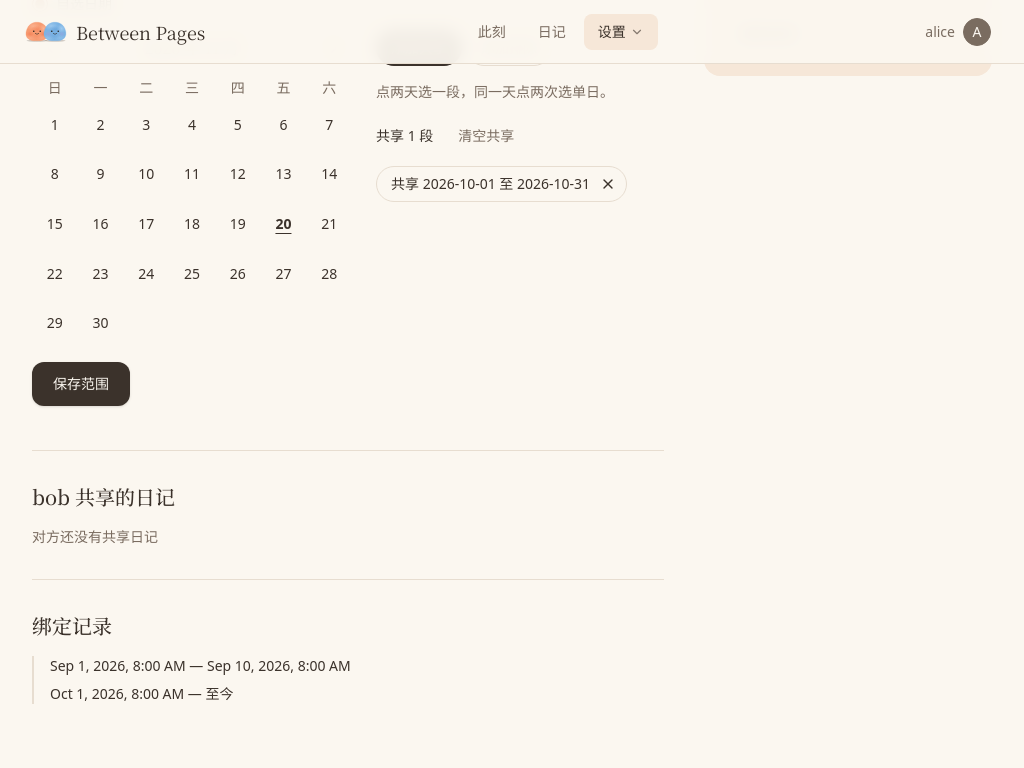
SpacePage › [adr:diary-collaboration-kernel#17] confirming for this binding for the first time opens every chosen date
(page scrolled)
Click the button "保存范围" at (81, 384), box left=32, top=362, right=130, bottom=406
(page scrolled)
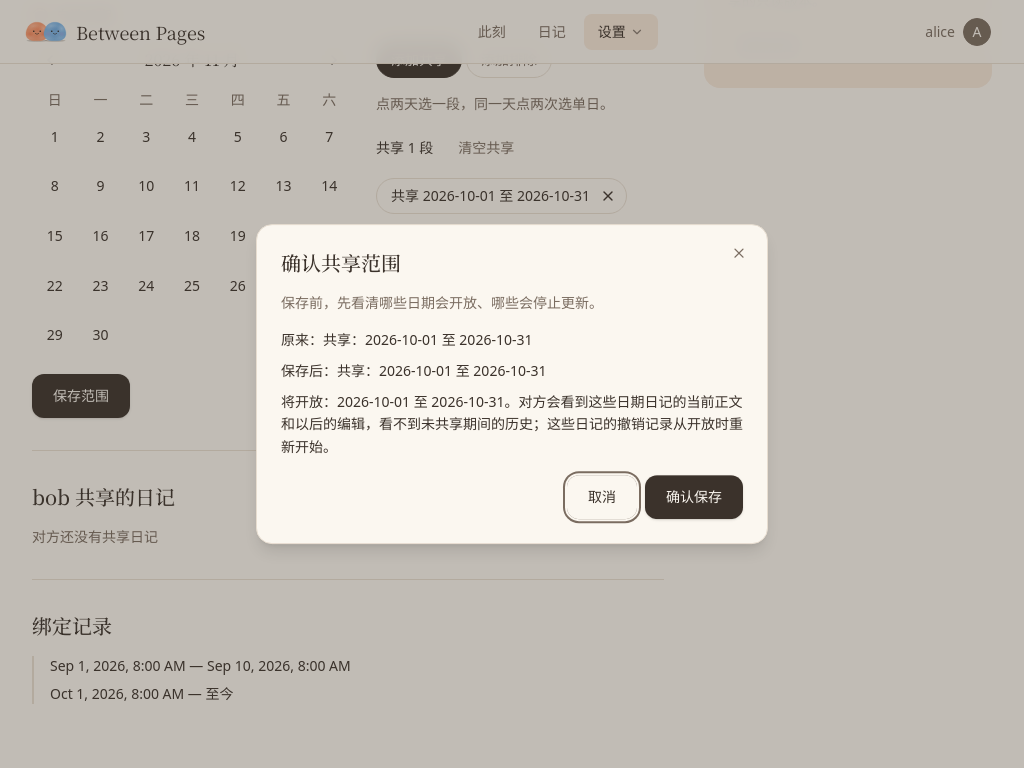
Now the text "将开放：2026-10-01 至 2026-10-31。" is shown, box left=281, top=391, right=743, bottom=459
